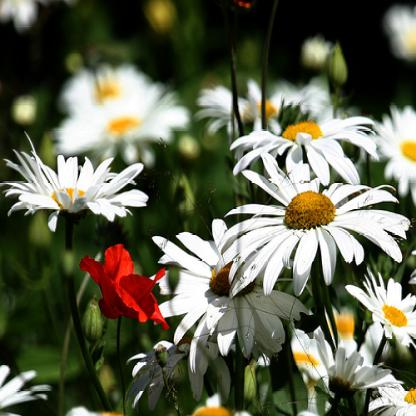ASTER: (4, 26, 412, 411)
